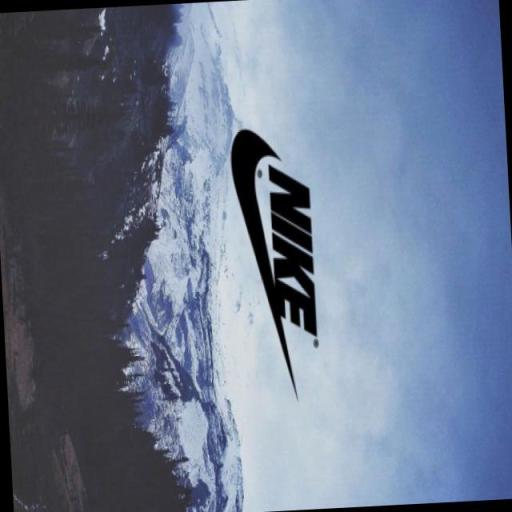Nike: (230, 130, 286, 360), (263, 161, 320, 342)
